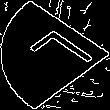L_SE: (15, 26, 95, 84)
